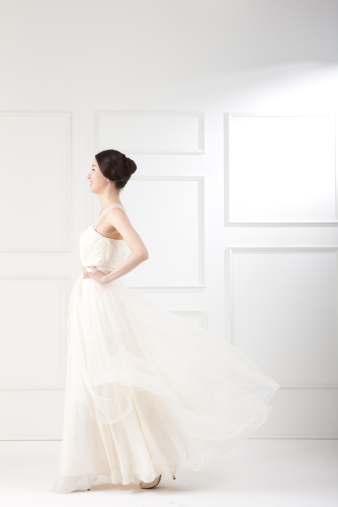em pe: (62, 134, 157, 345)
